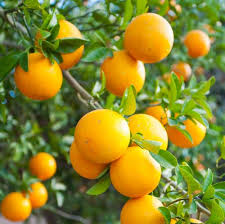orange: (77, 106, 131, 159), (112, 147, 163, 194), (126, 15, 175, 61), (18, 52, 62, 103), (100, 52, 147, 97), (125, 110, 169, 155), (169, 109, 208, 150), (116, 196, 171, 224), (27, 152, 59, 179)
